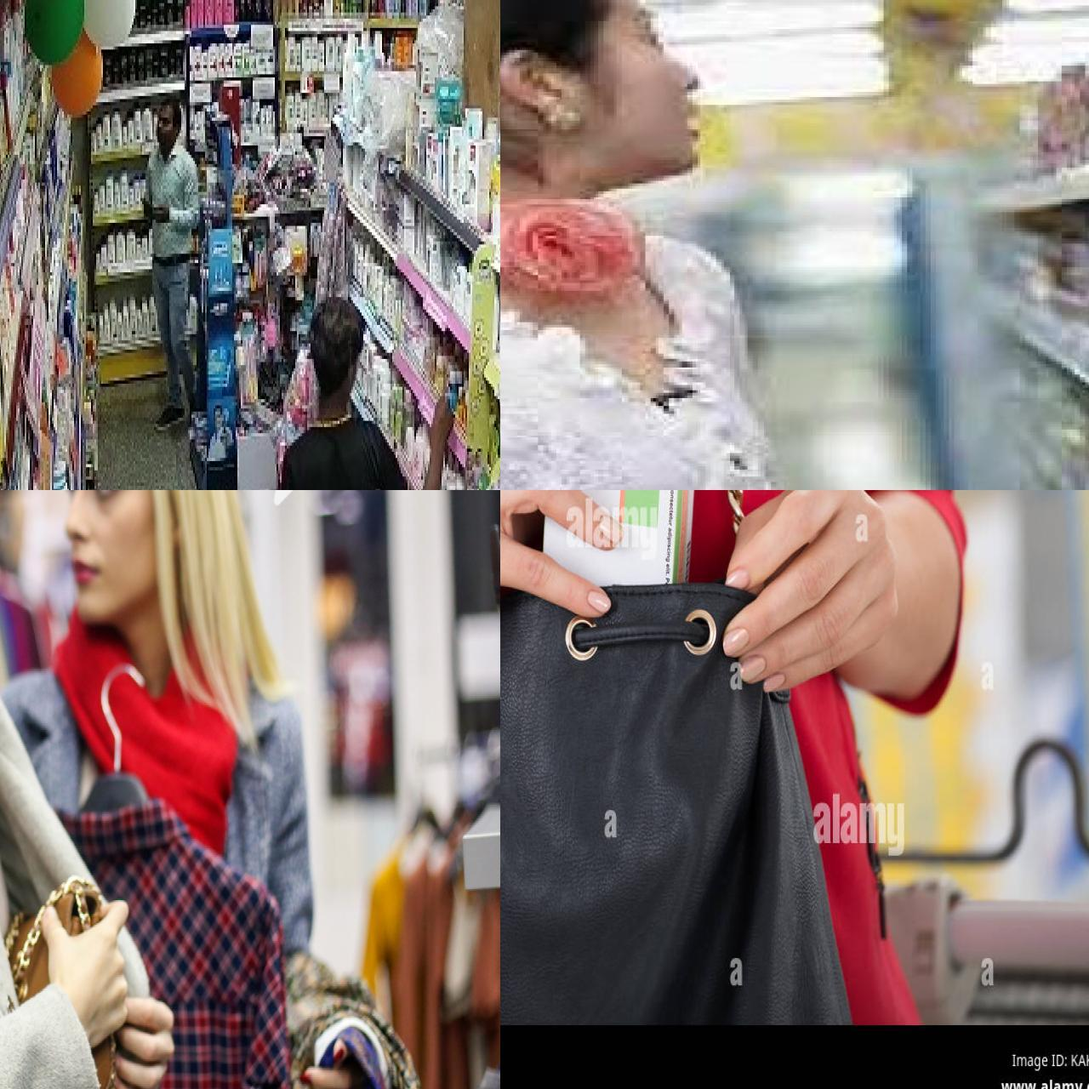shoplifting: (502, 492, 1089, 1089), (0, 581, 501, 1089)
